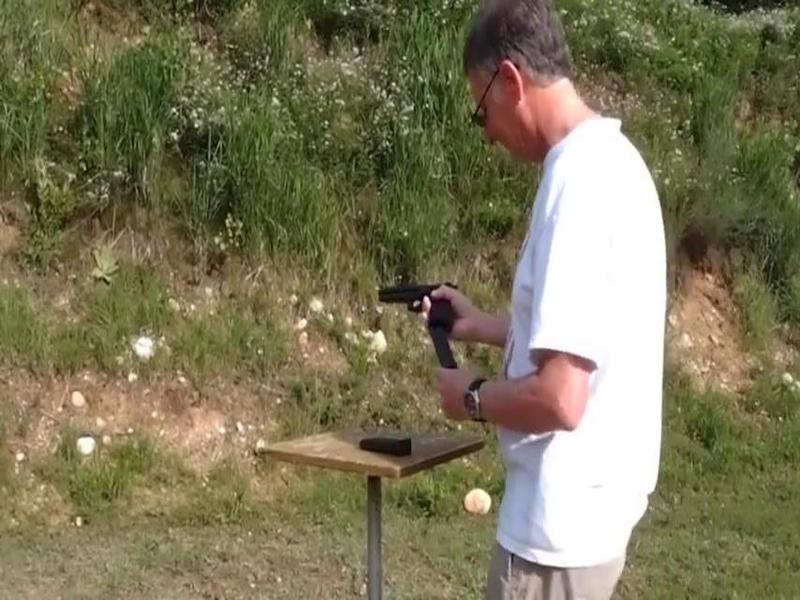Pistola: (367, 272, 469, 341)
